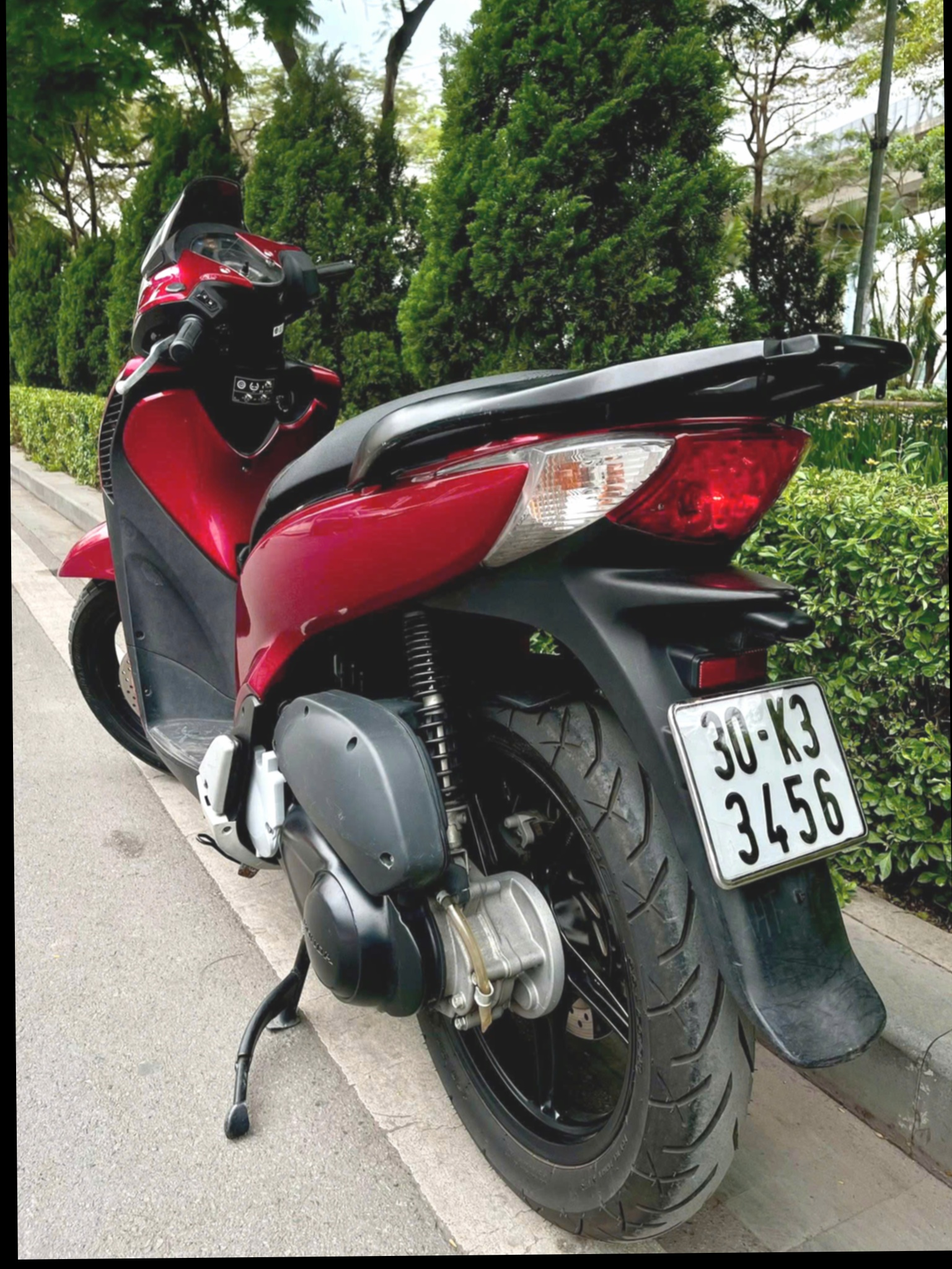Bien-so: (676, 670, 873, 885)
